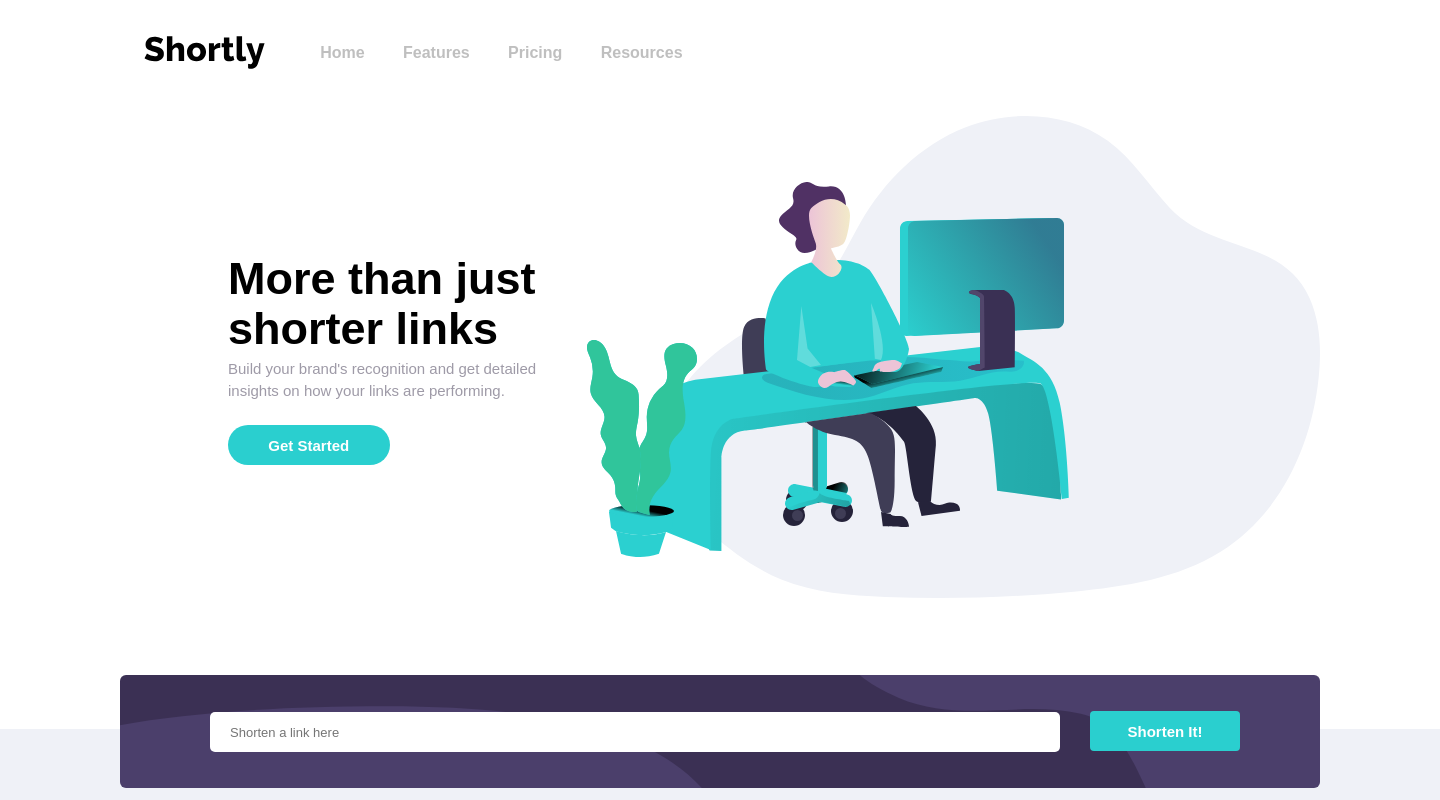
Test: Shorten Link Input Tests › should not allow submission of empty link
Click the button with class "btn-shorten" at (1165, 731), box x1=1090 y1=711 x2=1240 y2=751
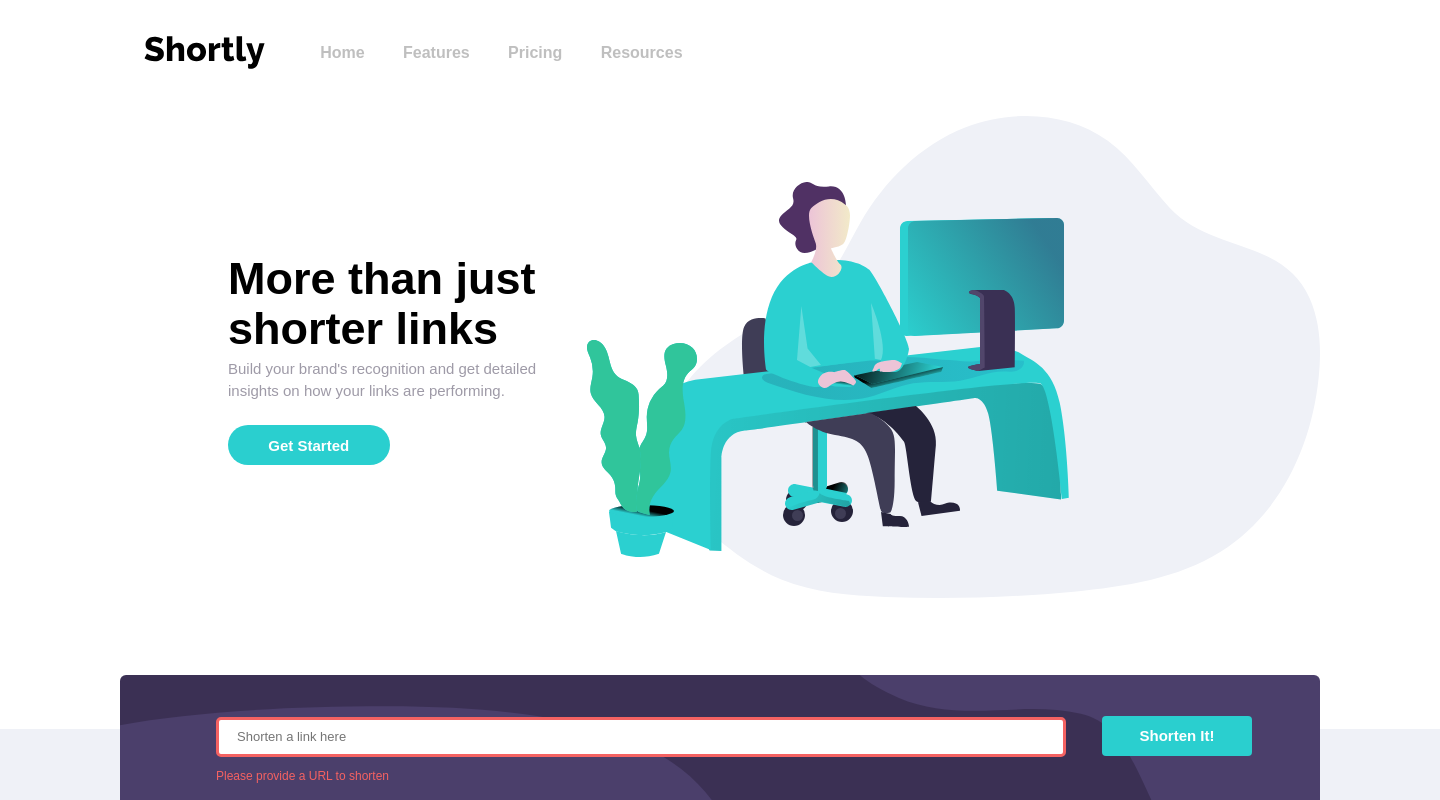
Now the text with class "error" reads "Please provide a URL to shorten", box x1=216 y1=769 x2=389 y2=783
